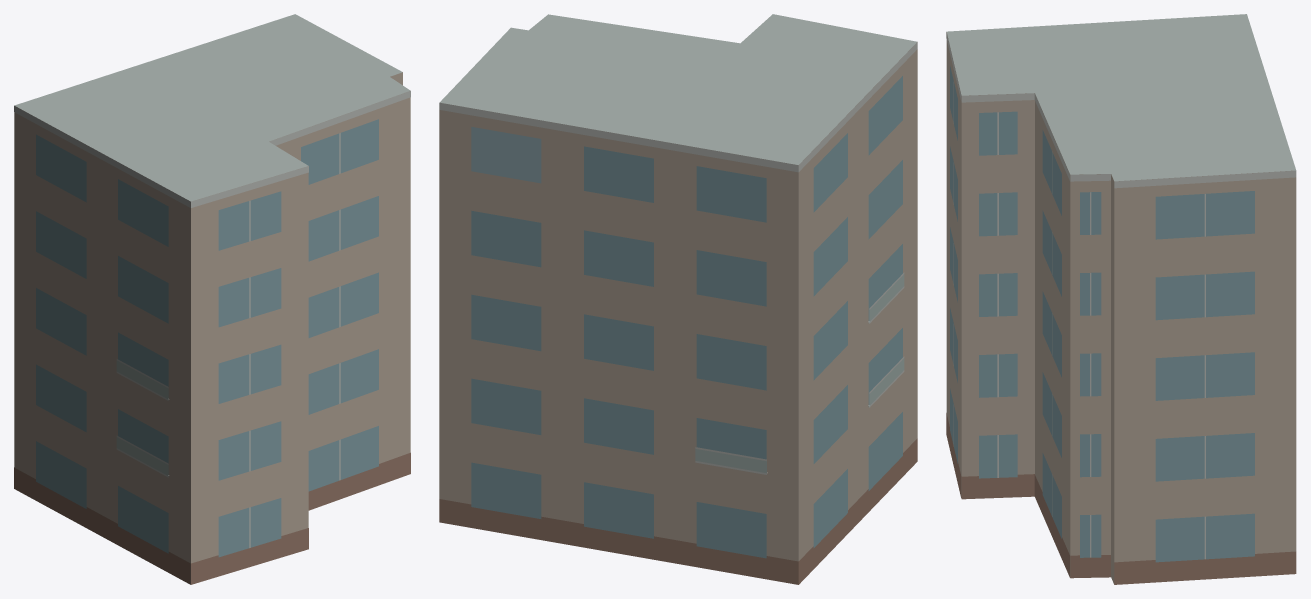
Rendered from survey-upis-32652199.glb.
3 renders of one model, left to right at view 1: azimuth 30°, elevation 25°; view 2: azimuth 150°, elevation 25°; view 3: azimuth 270°, elevation 25°, orthographic. The views are drawn at different scales.
Parts seen in each view (by area): view 1: survey-upis-32652199.tmp; view 2: survey-upis-32652199.tmp; view 3: survey-upis-32652199.tmp.
Boxes of the visible parts, <box> form: survey-upis-32652199.tmp: <box>14,14,410,584</box>; survey-upis-32652199.tmp: <box>439,14,917,584</box>; survey-upis-32652199.tmp: <box>946,14,1296,584</box>.
Size of the model in its own units: 12.64 by 14.2 by 11.17.
